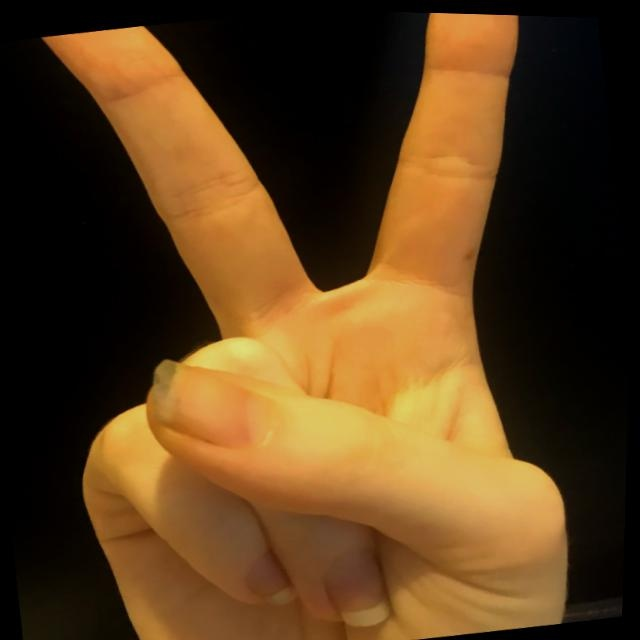V: (10, 0, 613, 639)
